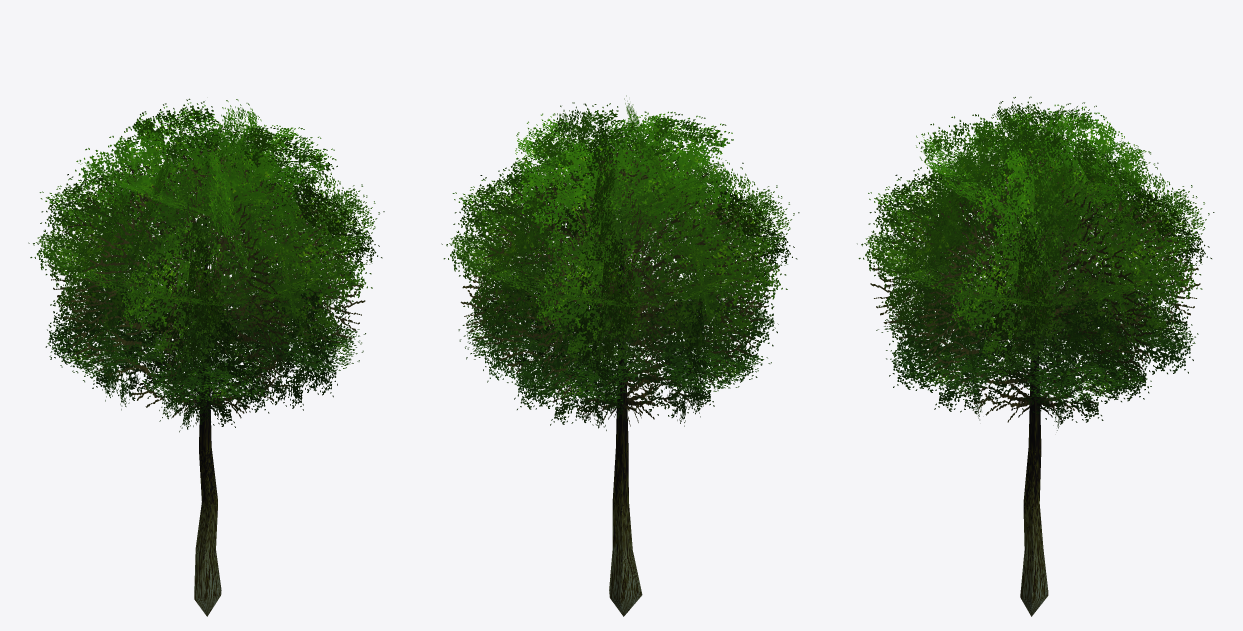
3 views of the same model, side by side, from view 1: azimuth 30°, elevation 25°; view 2: azimuth 150°, elevation 25°; view 3: azimuth 270°, elevation 25° (orthographic).
Parts seen in each view (by area): view 1: es_3; view 2: es_3; view 3: es_3.
Part boxes in pixels (bbox=[...]): es_3: bbox=[28, 98, 384, 616]; es_3: bbox=[441, 95, 799, 616]; es_3: bbox=[857, 96, 1214, 616].
Size of the model in its own units: 1415 by 2360 by 1368.
